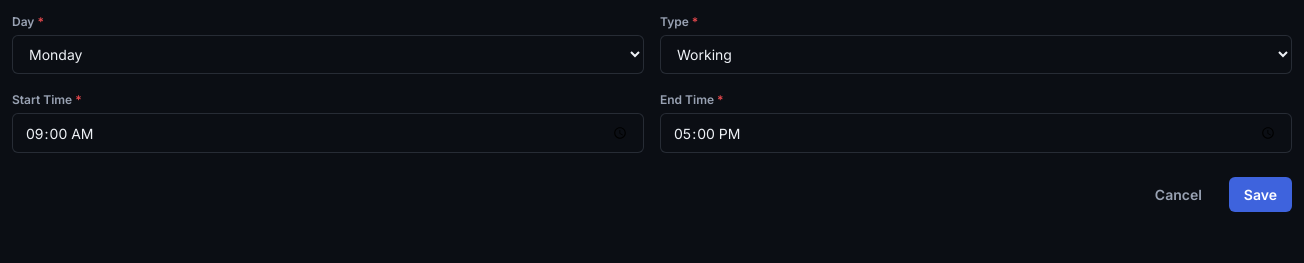
it: AvailabilityForm › keeps the actual OFF interval editable rather than inventing an all-day closure
Select "Off (Unavailable period)" in the dropdown labelled "Type *" at [976, 54], box [660,35,1292,74]
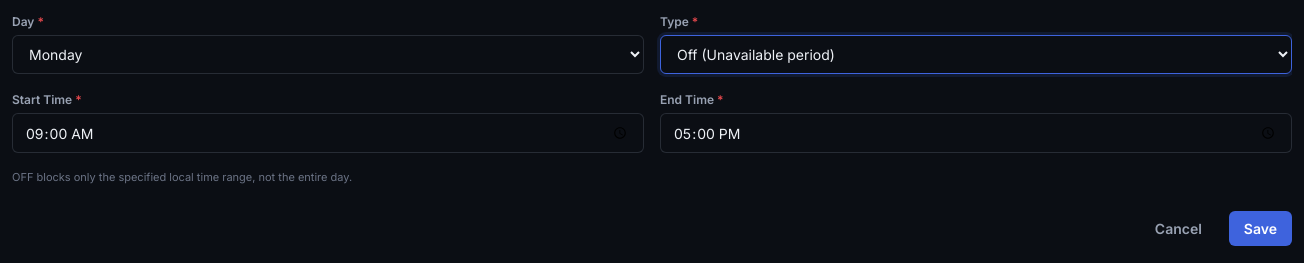
Expected: the time field labelled "Start Time *" holds "09:00", [12,113,644,153]
Result: the text "OFF blocks only the specified local time range" is shown at [12,170,352,184]
